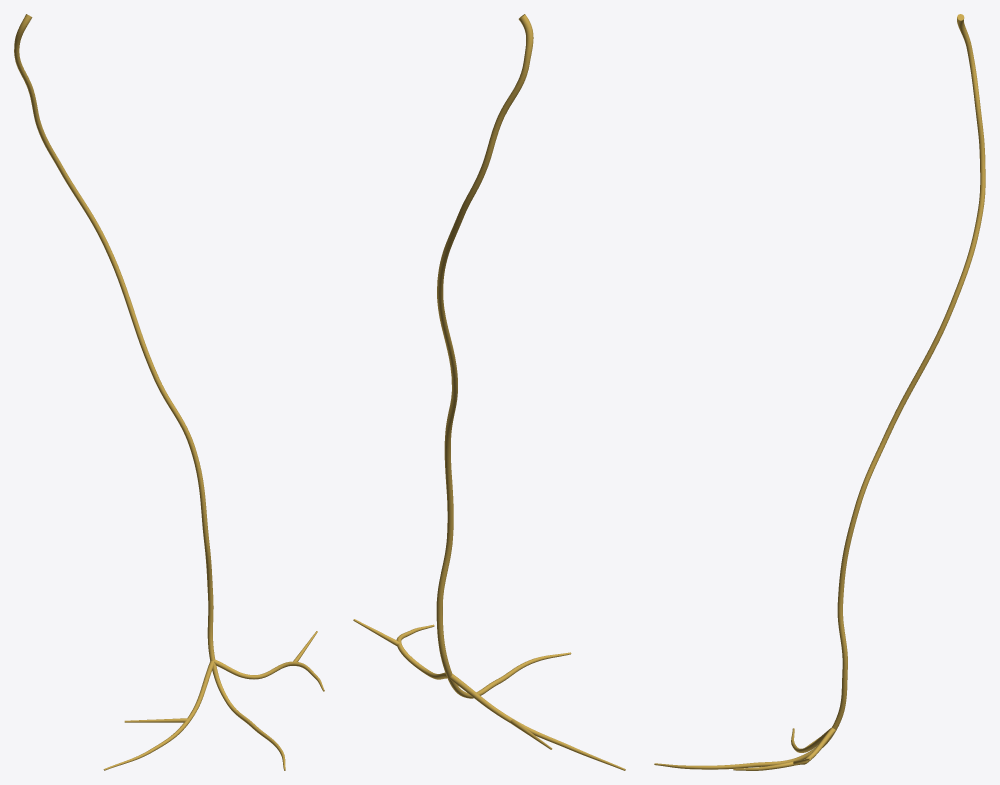
3 views of the same model, side by side, from view 1: azimuth 30°, elevation 25°; view 2: azimuth 150°, elevation 25°; view 3: azimuth 270°, elevation 25° (orthographic). The views are drawn at different scales.
Visible parts, largest first — view 1: 左侧眼神经; view 2: 左侧眼神经; view 3: 左侧眼神经.
Boxes of the visible parts, <box> form: 左侧眼神经: <box>14,14,324,770</box>; 左侧眼神经: <box>353,14,625,770</box>; 左侧眼神经: <box>654,14,985,770</box>.
Bounding box in the file's own units: 0.0432 × 0.1268 × 0.053.
